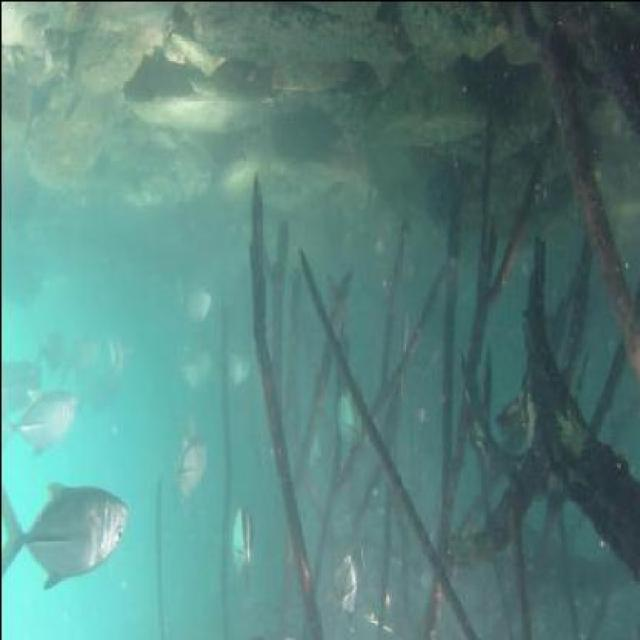Caranx_sexfasciatus_juvenile: (0, 471, 129, 600), (0, 388, 78, 464), (326, 538, 376, 632), (223, 492, 260, 588), (163, 331, 217, 395), (294, 407, 334, 493), (166, 261, 211, 333), (332, 374, 366, 460), (170, 431, 207, 506), (58, 318, 100, 382), (0, 355, 43, 417), (214, 325, 249, 397), (84, 370, 119, 416), (44, 323, 71, 377), (106, 328, 128, 374)
